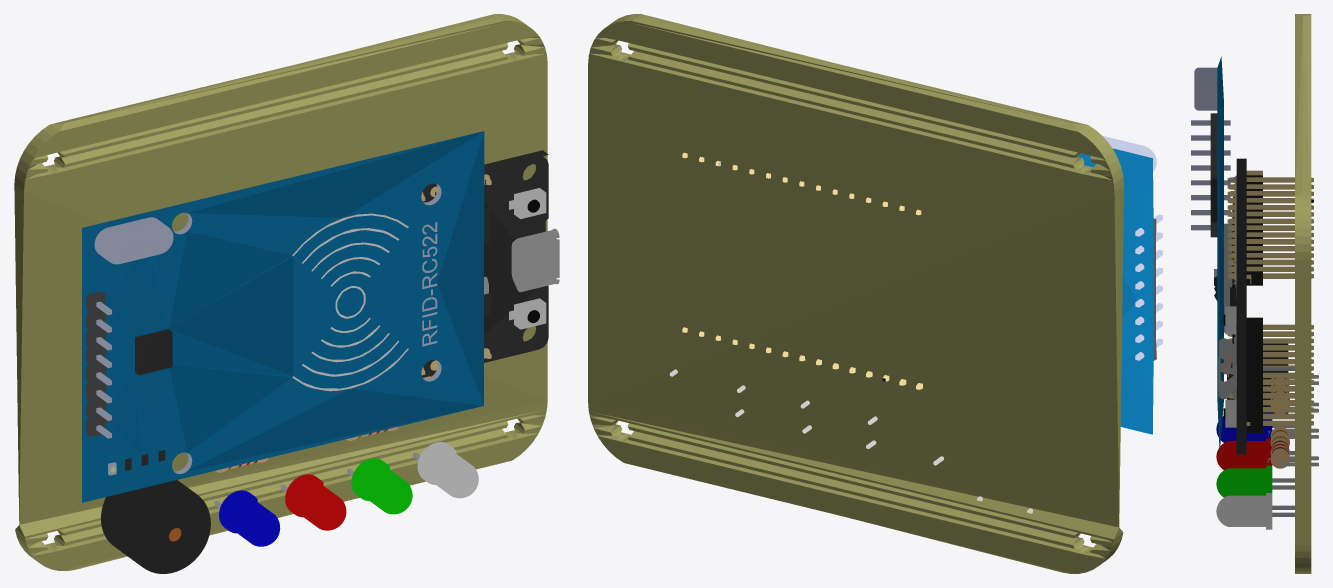
File: OBJ_PCB_SAPRY.obj
3 renders of one model, left to right at view 1: azimuth 30°, elevation 25°; view 2: azimuth 150°, elevation 25°; view 3: azimuth 270°, elevation 25°, orthographic. The views are drawn at different scales.
Size of the model in its own units: 314 by 255 by 78.36.
